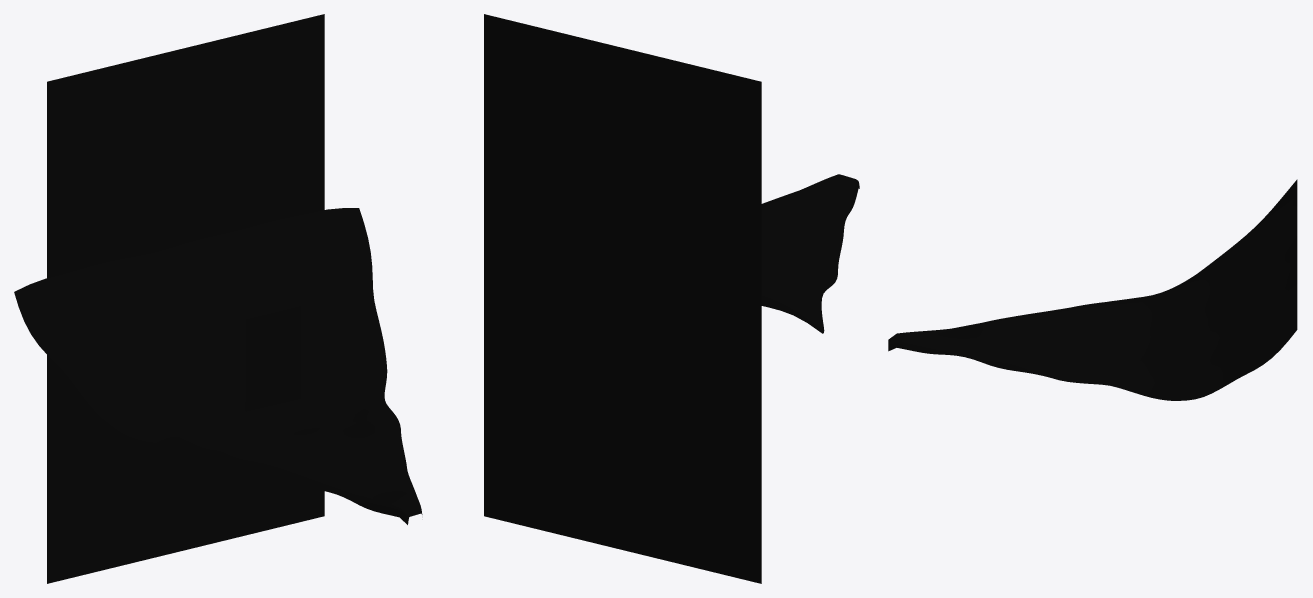
File: feed_projection.glb
The picture shows the model from 3 angles, left to right: view 1: azimuth 30°, elevation 25°; view 2: azimuth 150°, elevation 25°; view 3: azimuth 270°, elevation 25°; orthographic projection. The views are drawn at different scales.
Visible parts, largest first — view 1: BG_Plane, Ground_Mesh, Parasol_Card; view 2: BG_Plane, Ground_Mesh; view 3: Ground_Mesh.
Boxes of the visible parts, <box> form: BG_Plane: <box>47,14,324,583</box>; Ground_Mesh: <box>14,208,422,524</box>; Parasol_Card: <box>245,306,300,411</box>; BG_Plane: <box>484,14,761,583</box>; Ground_Mesh: <box>761,174,859,333</box>; Ground_Mesh: <box>888,179,1297,400</box>.
Size of the model in its own units: 11.64 by 16.17 by 13.4.
3 materials, 3 textured.
